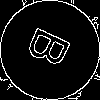B: (25, 25, 80, 74)
